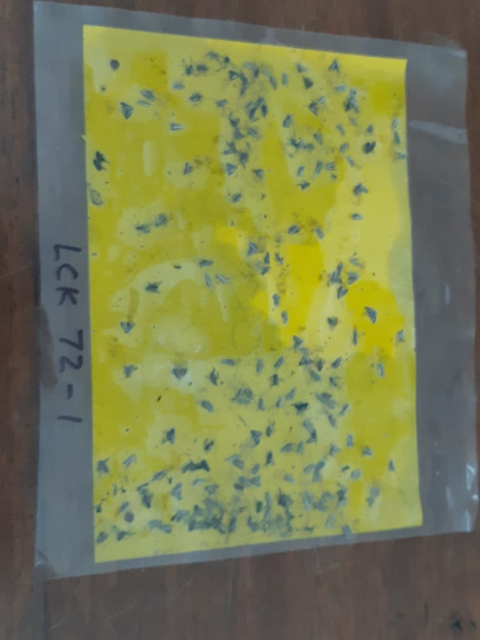DBM: (170, 364, 190, 383), (362, 303, 379, 325), (140, 84, 158, 103), (119, 101, 136, 121), (148, 466, 168, 483), (326, 56, 343, 75), (177, 160, 197, 176), (244, 125, 264, 141), (198, 270, 214, 290), (351, 181, 369, 198), (117, 321, 137, 336), (244, 239, 260, 257), (132, 96, 152, 110), (299, 74, 316, 90), (213, 270, 229, 287), (121, 452, 138, 468), (290, 333, 305, 351), (250, 428, 265, 446), (169, 482, 184, 500), (388, 130, 403, 147), (280, 111, 295, 128), (335, 284, 350, 301), (121, 363, 138, 378), (266, 72, 278, 92), (295, 353, 312, 367), (203, 483, 220, 497), (307, 101, 322, 116), (363, 140, 377, 156), (286, 223, 302, 237), (271, 355, 285, 371), (305, 429, 319, 445), (394, 328, 407, 345), (187, 90, 202, 104), (330, 355, 344, 370), (200, 398, 214, 413), (284, 384, 296, 401), (302, 493, 313, 511), (346, 115, 360, 129), (214, 97, 229, 110), (278, 440, 293, 453), (230, 456, 245, 469), (168, 121, 184, 133), (270, 291, 282, 307), (279, 70, 290, 87), (337, 140, 350, 154), (313, 226, 326, 240), (225, 161, 238, 175), (227, 68, 240, 82), (323, 160, 338, 172), (255, 357, 265, 375), (156, 525, 174, 535), (155, 215, 168, 228), (387, 458, 398, 473), (310, 471, 325, 482), (329, 268, 339, 284), (376, 362, 386, 378), (352, 465, 362, 481), (389, 117, 401, 130), (314, 93, 327, 105), (243, 98, 256, 110), (250, 462, 262, 475), (313, 131, 324, 145), (280, 309, 289, 326), (365, 122, 375, 137), (349, 212, 364, 222), (315, 158, 324, 174), (346, 433, 355, 449), (256, 97, 266, 111), (221, 358, 237, 366), (284, 473, 294, 482)
